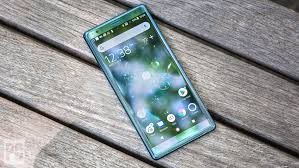sony: (81, 1, 217, 161)
